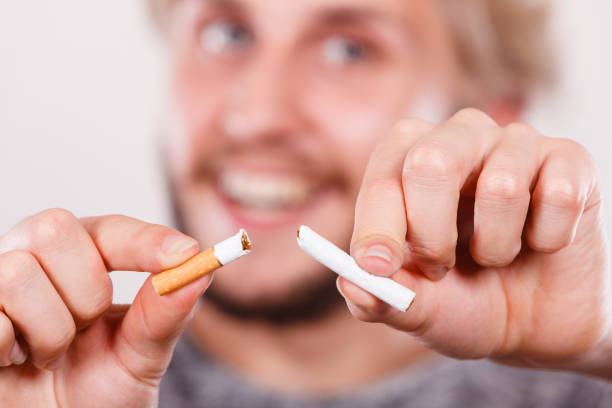cigarette: (293, 225, 416, 313), (149, 229, 251, 294)
